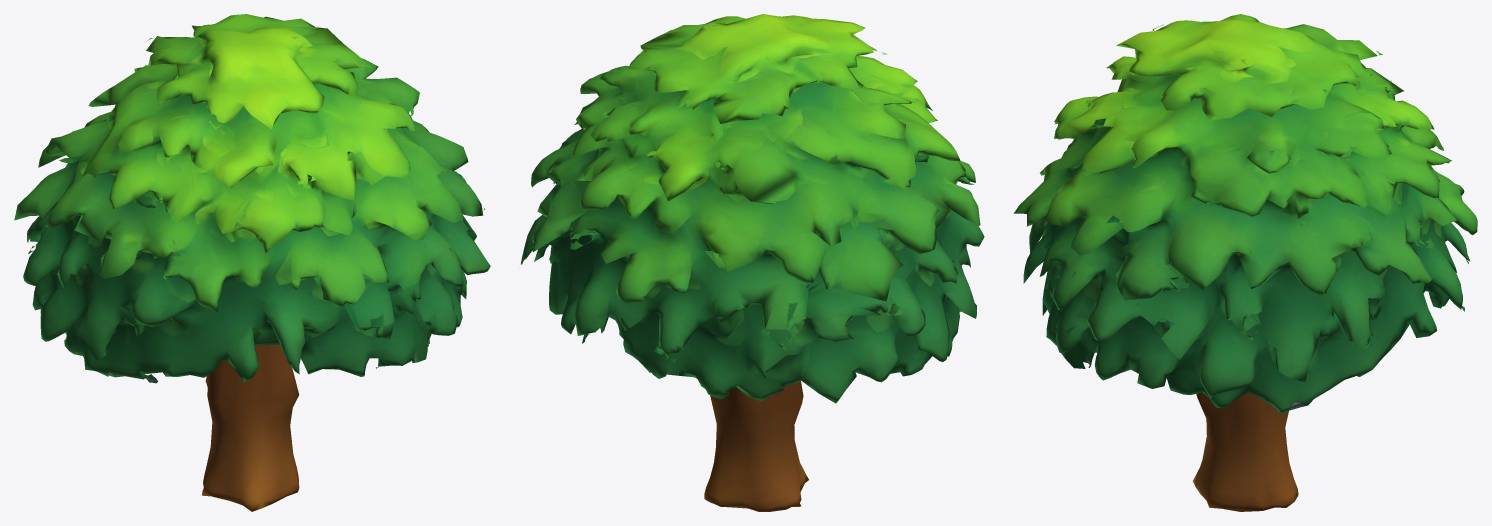
Rendered from tree-round-1.glb.
3 views of the same model, side by side, from view 1: azimuth 30°, elevation 25°; view 2: azimuth 150°, elevation 25°; view 3: azimuth 270°, elevation 25° (orthographic). The views are drawn at different scales.
Visible parts, largest first — view 1: tripo_node_e5bfe7db-4dd3-4fb2-b4b5-2886498c1585; view 2: tripo_node_e5bfe7db-4dd3-4fb2-b4b5-2886498c1585; view 3: tripo_node_e5bfe7db-4dd3-4fb2-b4b5-2886498c1585.
Boxes of the visible parts, <box> form: tripo_node_e5bfe7db-4dd3-4fb2-b4b5-2886498c1585: <box>14,14,490,511</box>; tripo_node_e5bfe7db-4dd3-4fb2-b4b5-2886498c1585: <box>521,14,984,511</box>; tripo_node_e5bfe7db-4dd3-4fb2-b4b5-2886498c1585: <box>1013,14,1477,511</box>.
Bounding box in the file's own units: 0.9156 × 0.9978 × 0.9116.
Materials: 1 (1 with a texture image).
